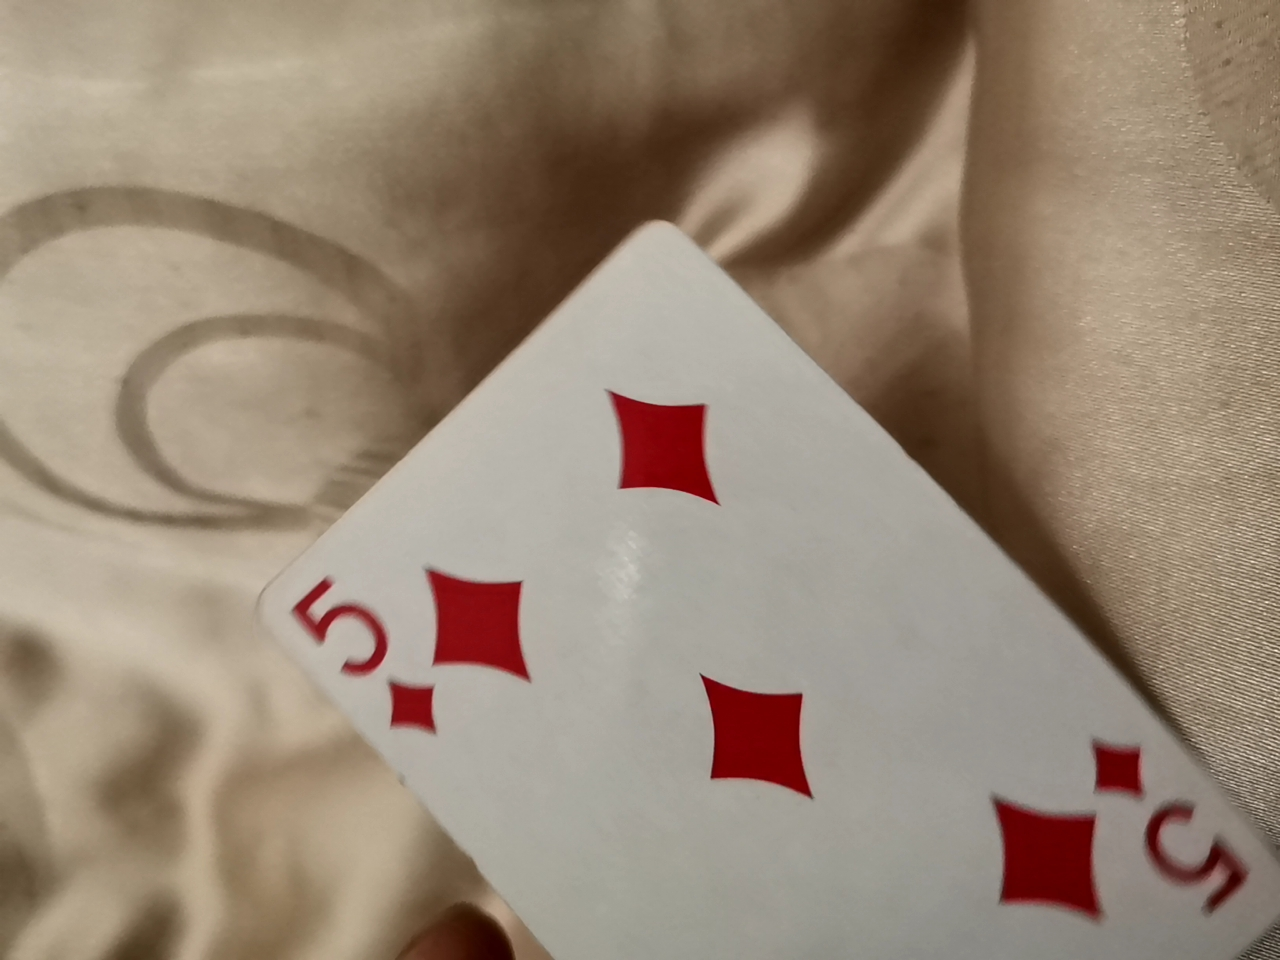fk 5: (201, 167, 1255, 957)
